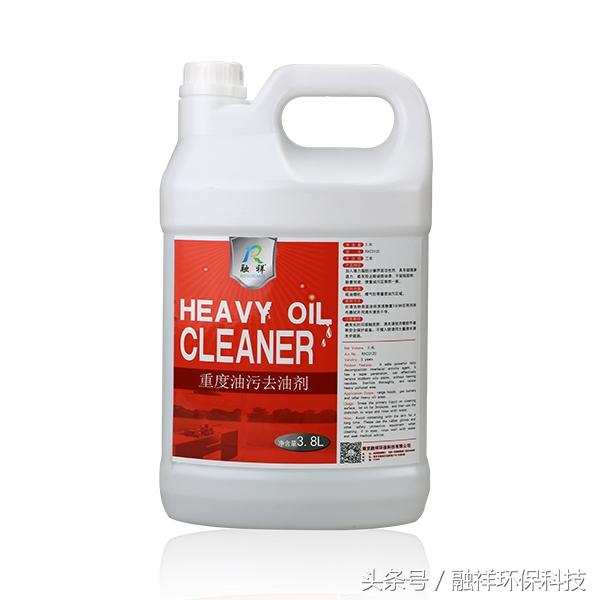cleaner: (156, 55, 438, 535)
